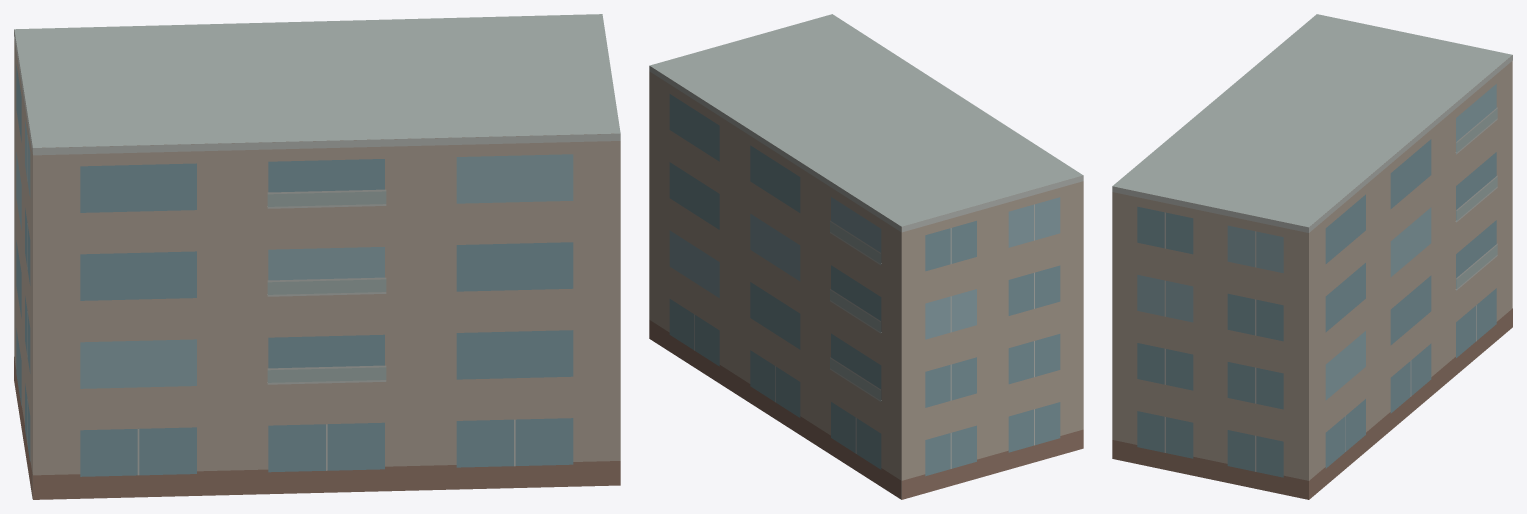
Rendered from survey-upis-32883547.glb.
3 views of the same model, side by side, from view 1: azimuth 30°, elevation 25°; view 2: azimuth 150°, elevation 25°; view 3: azimuth 270°, elevation 25° (orthographic). The views are drawn at different scales.
Parts seen in each view (by area): view 1: survey-upis-32883547.tmp; view 2: survey-upis-32883547.tmp; view 3: survey-upis-32883547.tmp.
Part boxes in pixels (x1,y1,x2,y2): survey-upis-32883547.tmp: [14, 14, 620, 499]; survey-upis-32883547.tmp: [649, 14, 1083, 499]; survey-upis-32883547.tmp: [1112, 14, 1512, 499].
Size of the model in its own units: 19.57 by 11.65 by 15.53.
